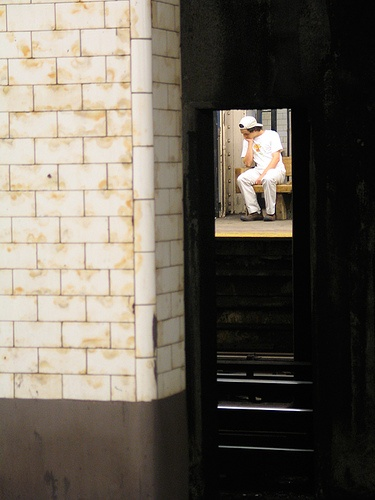head: (238, 115, 260, 139)
person: (236, 115, 285, 220)
